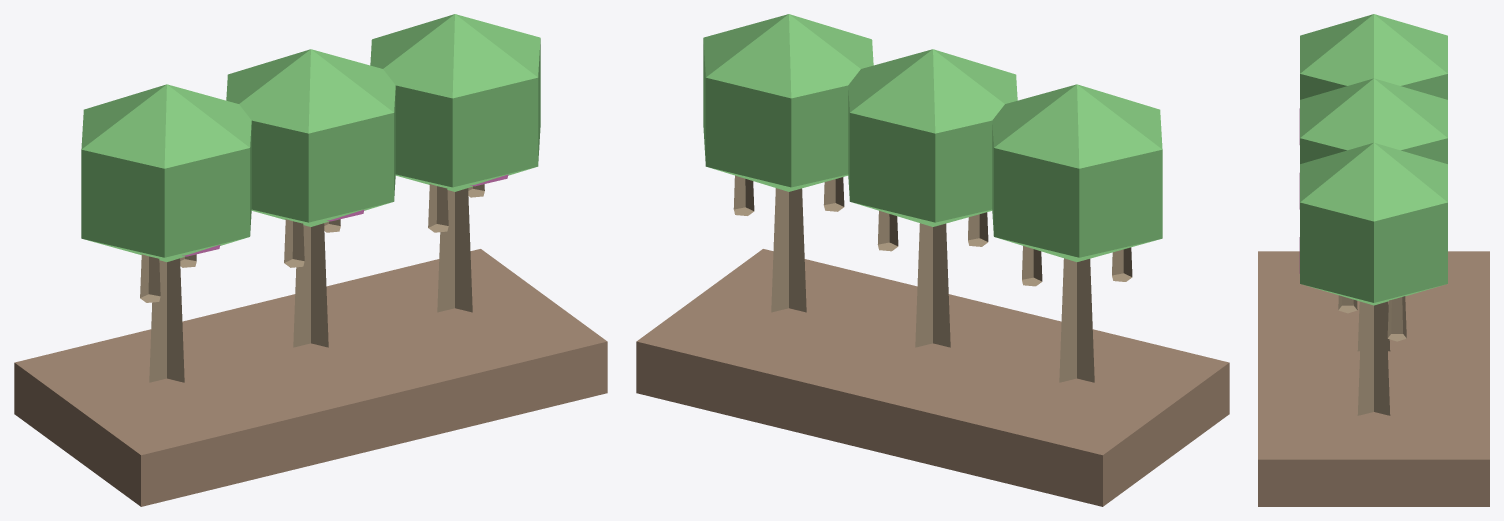
Rendered from flora_29_morus_alba_cay_dau_tam_ta_nung_cluster.glb.
3 renders of one model, left to right at view 1: azimuth 30°, elevation 25°; view 2: azimuth 150°, elevation 25°; view 3: azimuth 270°, elevation 25°, orthographic. The views are drawn at different scales.
Parts seen in each view (by area): view 1: flora_29_morus_alba_cay_dau_tam_ta_nung_cluster; view 2: flora_29_morus_alba_cay_dau_tam_ta_nung_cluster; view 3: flora_29_morus_alba_cay_dau_tam_ta_nung_cluster.
Boxes of the visible parts, left/top/right/bottom form: flora_29_morus_alba_cay_dau_tam_ta_nung_cluster: left=14, top=14, right=607, bottom=506; flora_29_morus_alba_cay_dau_tam_ta_nung_cluster: left=636, top=14, right=1229, bottom=506; flora_29_morus_alba_cay_dau_tam_ta_nung_cluster: left=1258, top=14, right=1489, bottom=506.
Bounding box in the file's own units: 3.4 × 2.47 × 1.6.
